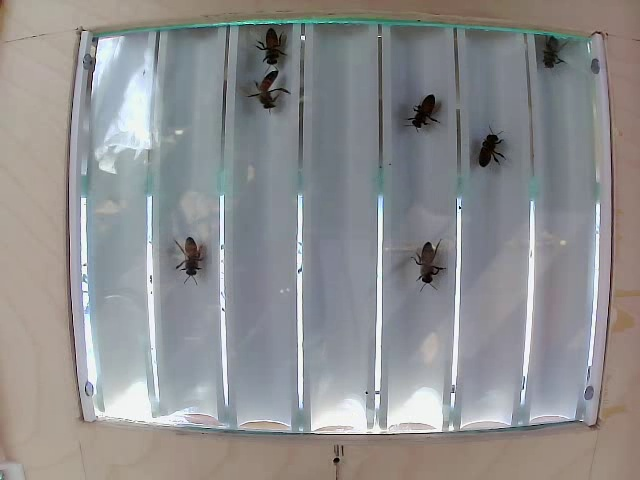bee: (174, 216, 219, 297), (409, 243, 453, 300), (409, 87, 450, 142), (251, 74, 293, 123), (482, 126, 515, 186), (540, 30, 568, 85), (253, 23, 280, 65)
